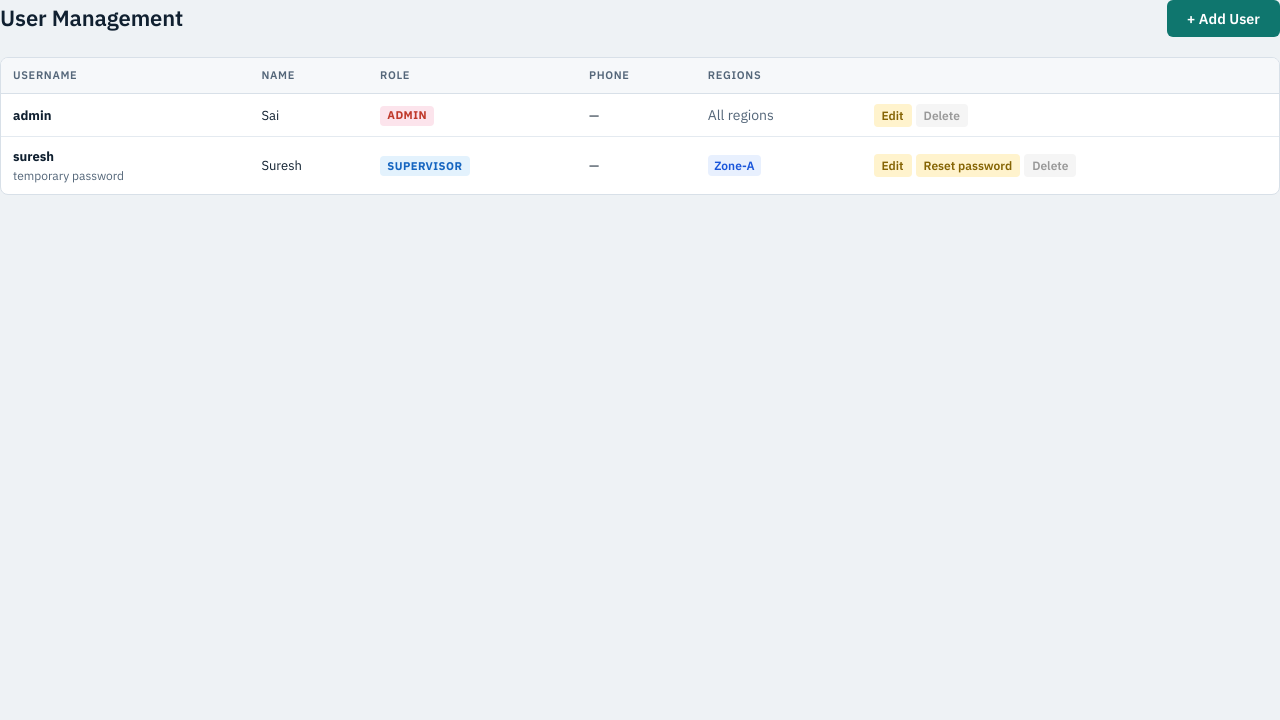
Test: creating a user shows the login details to hand over
Click the button "+ Add User": (1223, 18) [1167,0,1279,37]
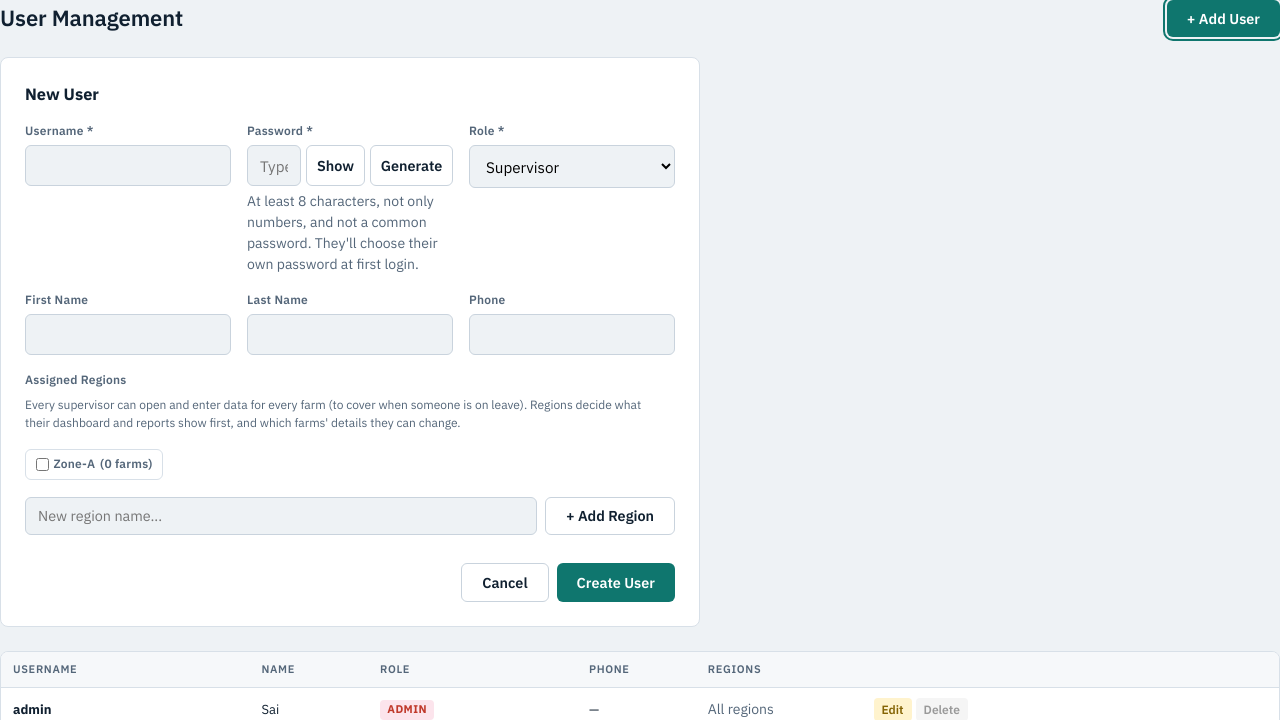
In the field below "Username *": (128, 166) [25,145,231,186], type "ravi"
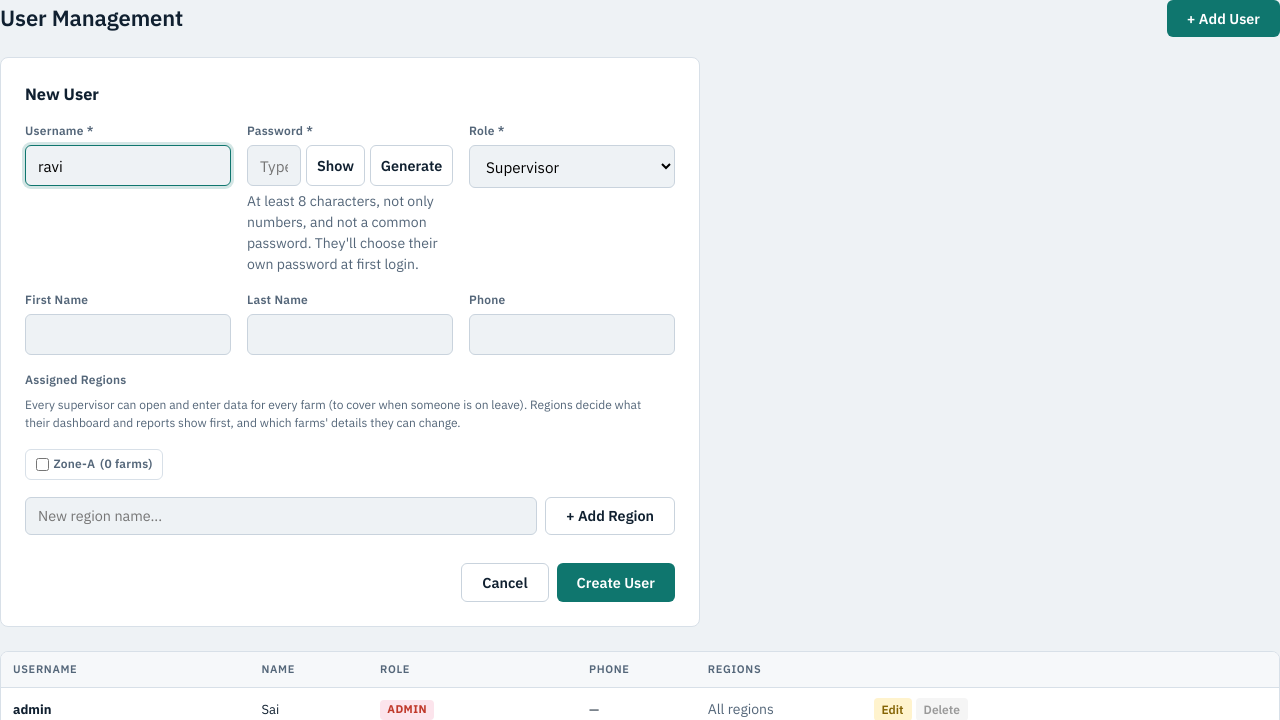
In the password field with placeholder "Type or generate": (274, 166) [247,145,301,186], type "Ravi-temp-2026"
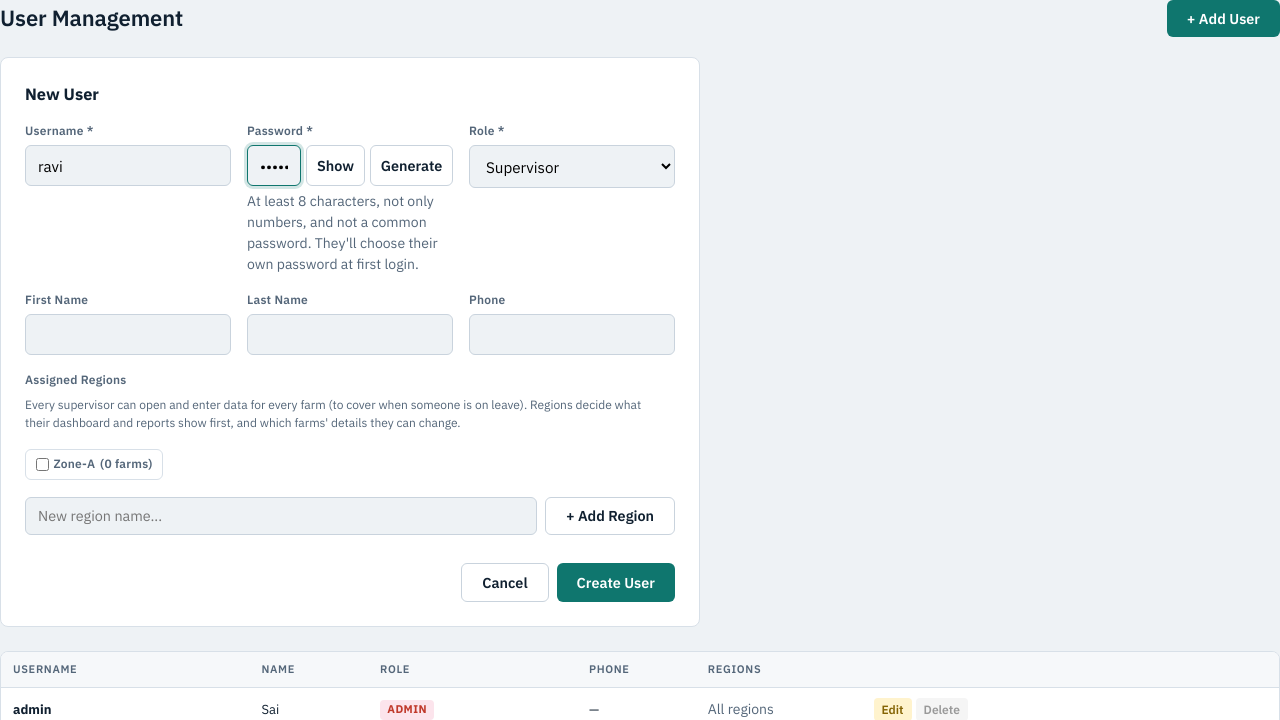
Click the button "Create User": (616, 582) [557,563,675,602]
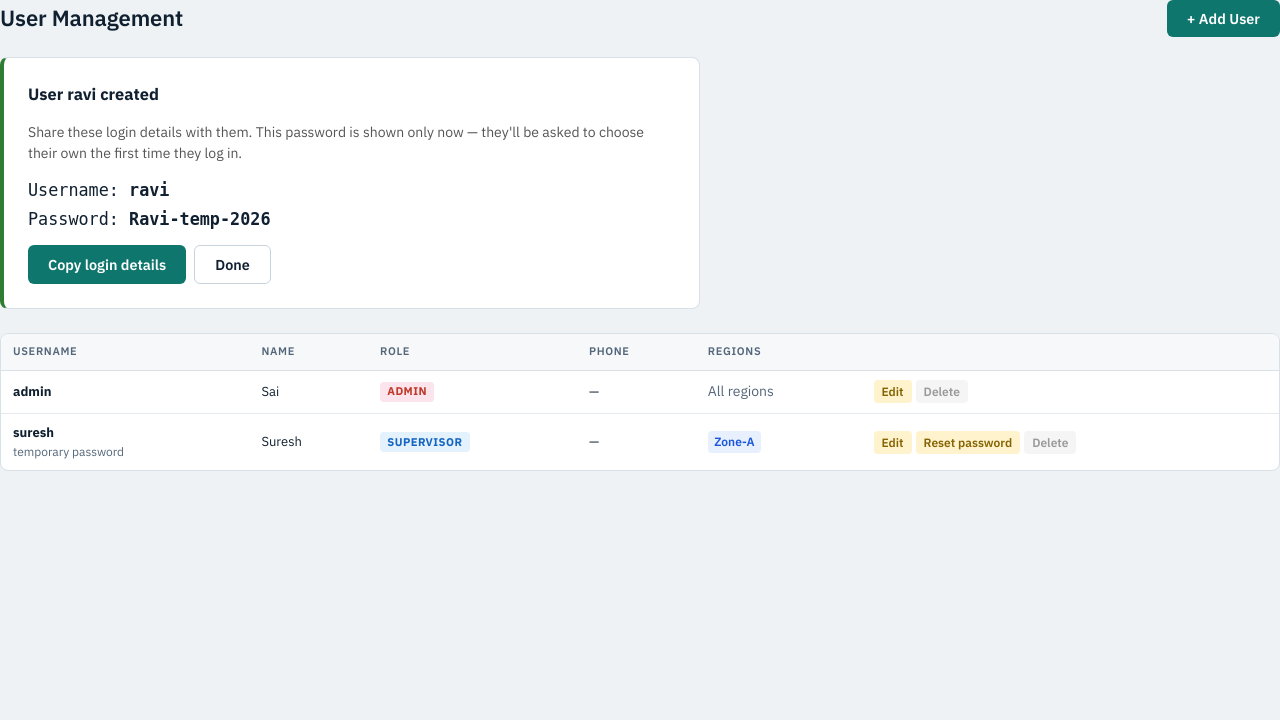
Expected: the message shows "User ravi created", [28,83,159,105]
Expected: the text with test id "shared-password" reads "Ravi-temp-2026", [129,209,270,229]
